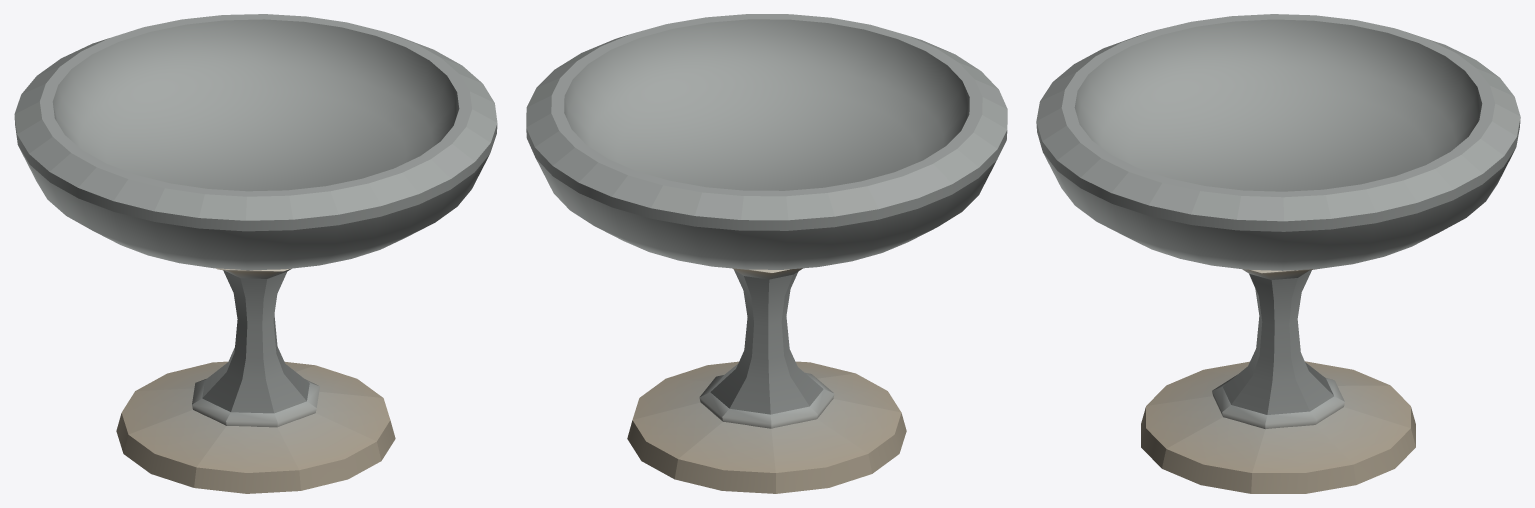
The picture shows the model from 3 angles, left to right: view 1: azimuth 30°, elevation 25°; view 2: azimuth 150°, elevation 25°; view 3: azimuth 270°, elevation 25°; orthographic projection.
Visible parts, largest first — view 1: G:\FFXIV-MapTools\exports\n4f4\bg\ex3\01_nvt_n4\fld\n4f4\bgp (×2); view 2: G:\FFXIV-MapTools\exports\n4f4\bg\ex3\01_nvt_n4\fld\n4f4\bgp (×2); view 3: G:\FFXIV-MapTools\exports\n4f4\bg\ex3\01_nvt_n4\fld\n4f4\bgp (×2).
Boxes of the visible parts, box(x1,y1,x2,y2) form: G:\FFXIV-MapTools\exports\n4f4\bg\ex3\01_nvt_n4\fld\n4f4\bgp (×2): box(14, 14, 497, 493); G:\FFXIV-MapTools\exports\n4f4\bg\ex3\01_nvt_n4\fld\n4f4\bgp (×2): box(526, 14, 1007, 493); G:\FFXIV-MapTools\exports\n4f4\bg\ex3\01_nvt_n4\fld\n4f4\bgp (×2): box(1036, 14, 1520, 493).
Bounding box in the file's own units: 10.6 × 7.98 × 10.6.
